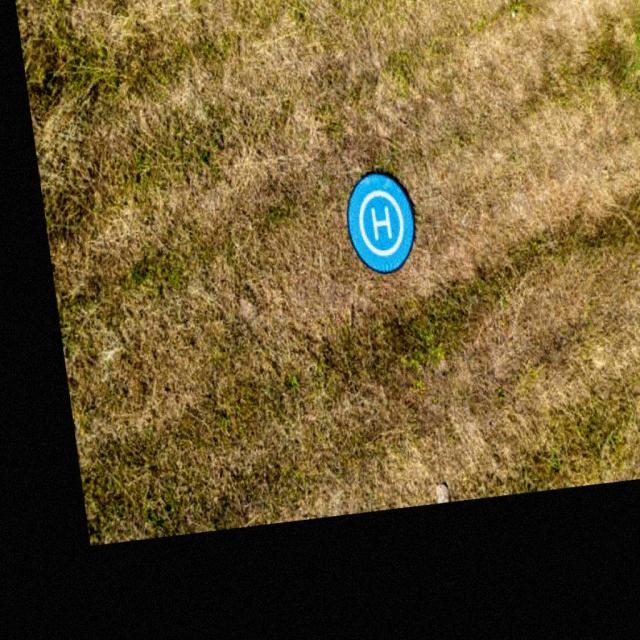helipad: (355, 186, 406, 260)
